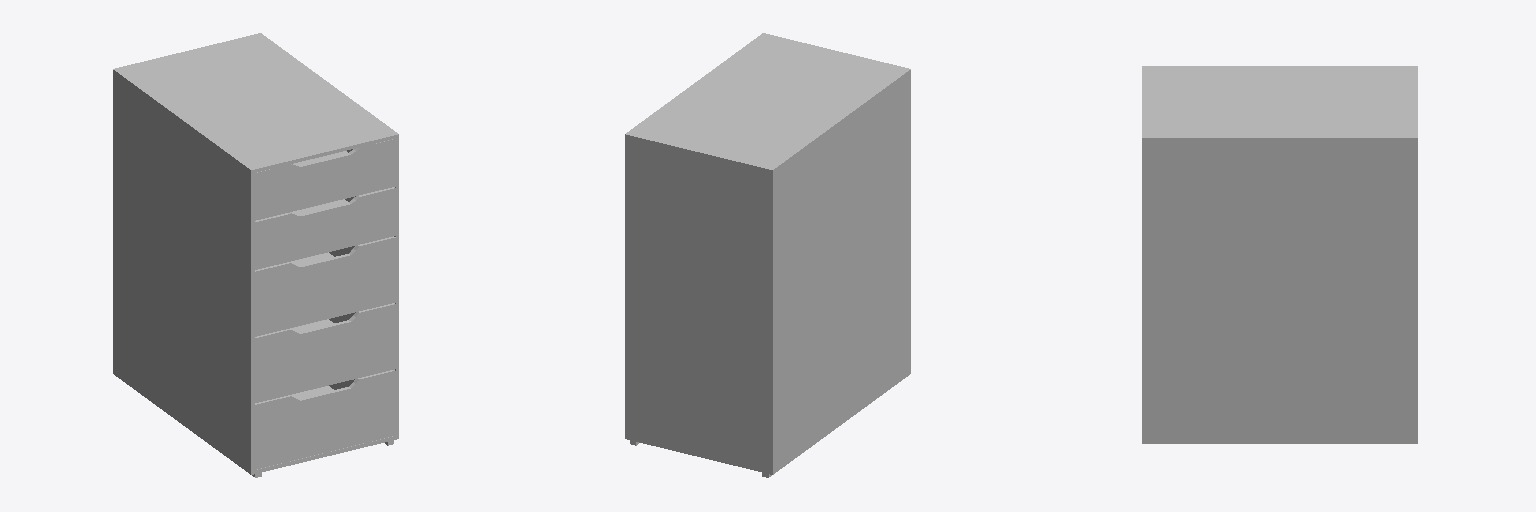
The model's file is ALEXАЛЕКС.obj.
3 renders of one model, left to right at view 1: azimuth 30°, elevation 25°; view 2: azimuth 150°, elevation 25°; view 3: azimuth 270°, elevation 25°, orthographic.
Parts seen in each view (by area): view 1: Cube_Cube.001, Cube.003_Cube.008, Cube.001_Cube.002; view 2: Cube_Cube.001; view 3: Cube_Cube.001.
Part boxes in pixels (bbox=[...]): Cube_Cube.001: bbox=[113, 33, 398, 474]; Cube.003_Cube.008: bbox=[255, 236, 395, 469]; Cube.001_Cube.002: bbox=[255, 139, 395, 269]; Cube_Cube.001: bbox=[625, 33, 910, 474]; Cube_Cube.001: bbox=[1142, 66, 1417, 442].
Size of the model in its own units: 0.7116 by 1.42 by 1.15.